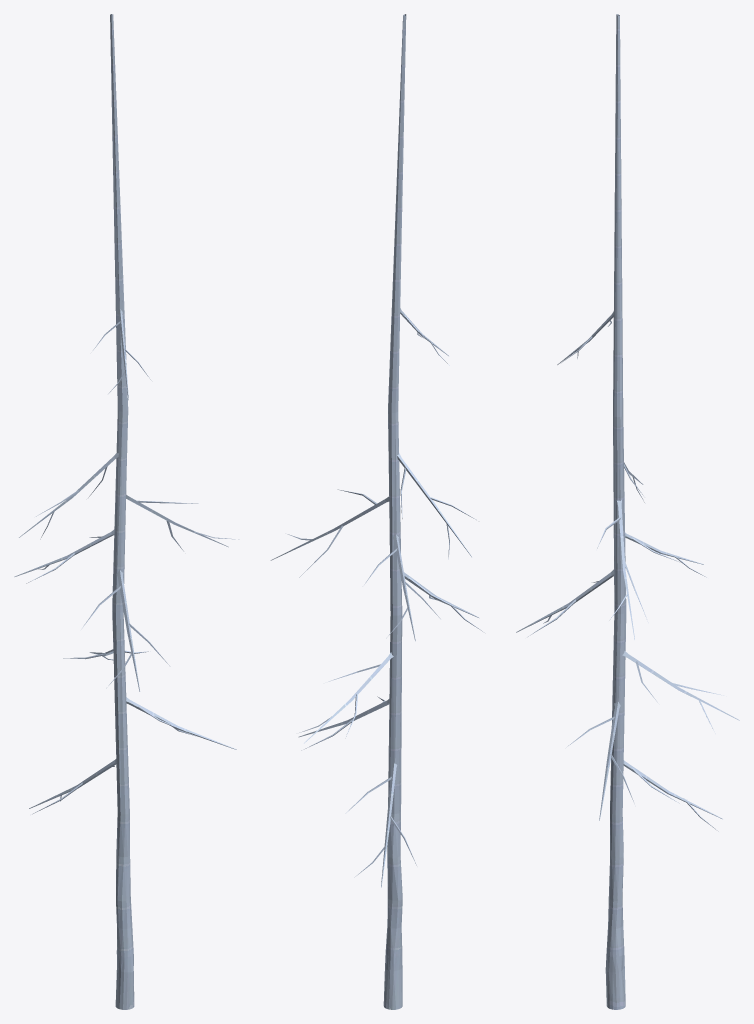
Rendered from Dynamic_Tree_07.fbx.
The picture shows the model from 3 angles, left to right: view 1: azimuth 30°, elevation 25°; view 2: azimuth 150°, elevation 25°; view 3: azimuth 270°, elevation 25°; orthographic projection.
Visible parts, largest first — view 1: SM_Tree_07_Dynamic.mo; view 2: SM_Tree_07_Dynamic.mo; view 3: SM_Tree_07_Dynamic.mo.
Boxes of the visible parts, bbox=[...] form: SM_Tree_07_Dynamic.mo: bbox=[14, 14, 239, 1009]; SM_Tree_07_Dynamic.mo: bbox=[270, 14, 484, 1009]; SM_Tree_07_Dynamic.mo: bbox=[516, 14, 739, 1009].
Bounding box in the file's own units: 470 × 2166 × 446.
